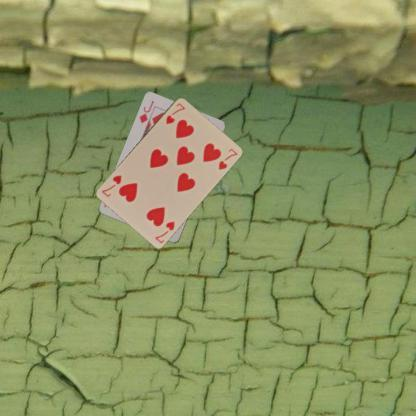7h: (152, 218, 176, 244), (163, 100, 186, 126)
Jd: (136, 98, 155, 125)
